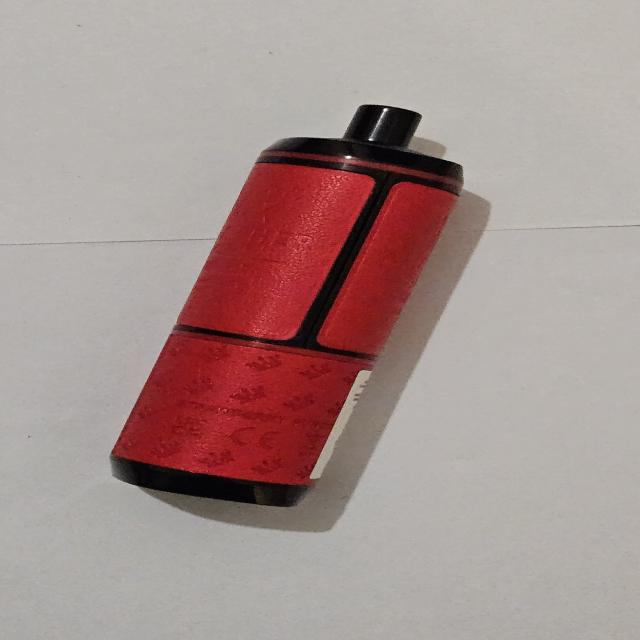Hazard: (108, 103, 466, 512)
